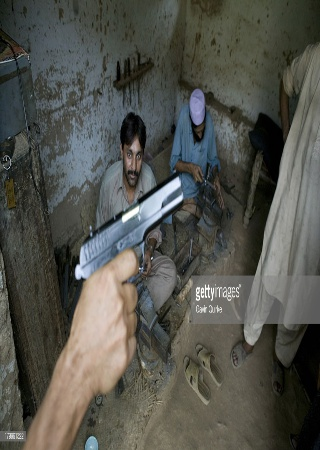handgun: (77, 175, 186, 380)
